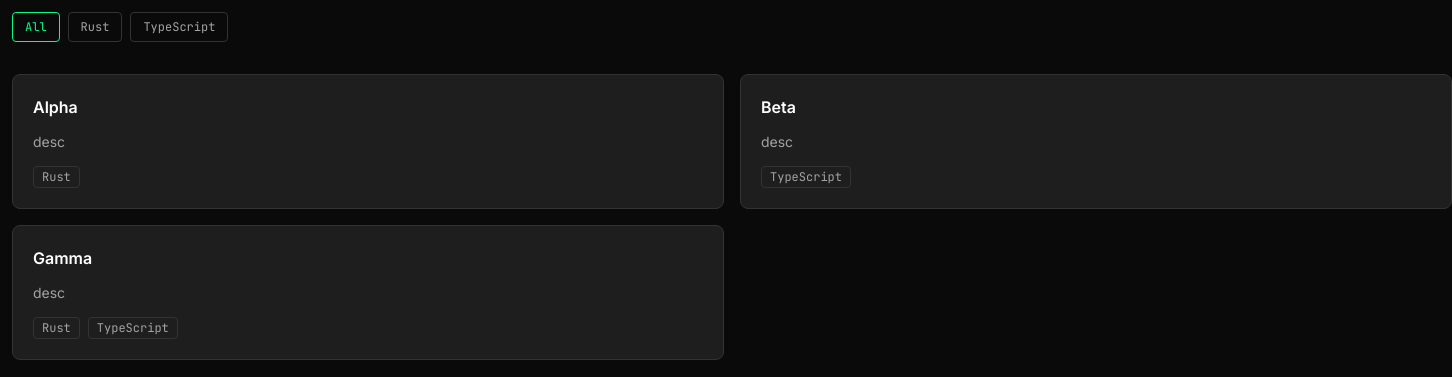
Test: TagFilter › shows all projects again when All is clicked after filtering
Click the button "Rust": coordinates (95, 27) [68,12,122,42]
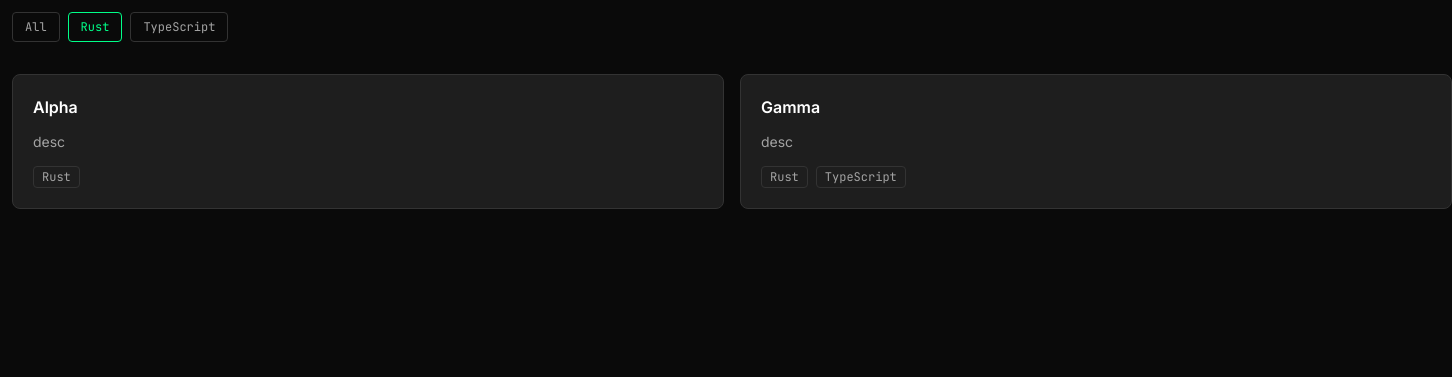
Click the button "All": coordinates (36, 27) [12,12,60,42]
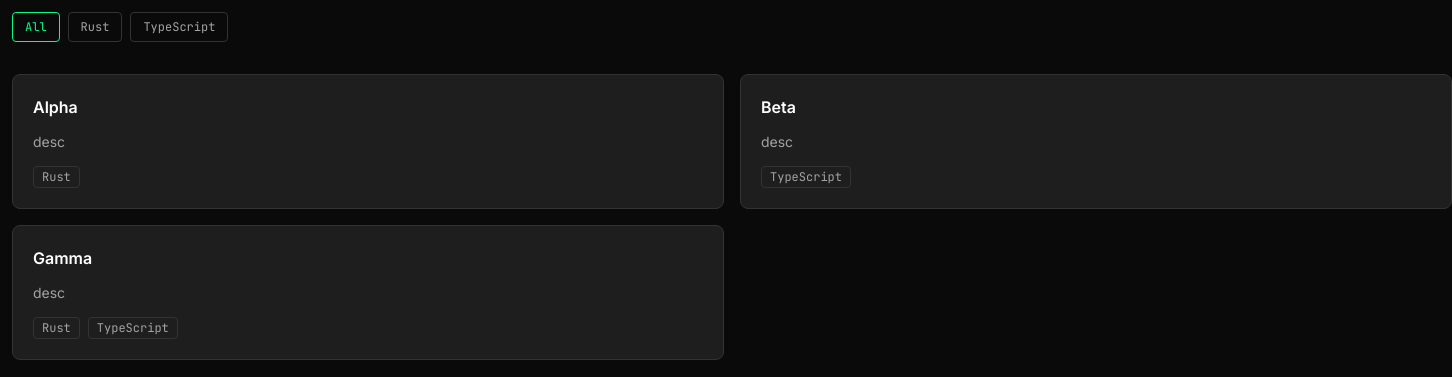
Now the link "Beta" is shown, box [761,97,796,117]
